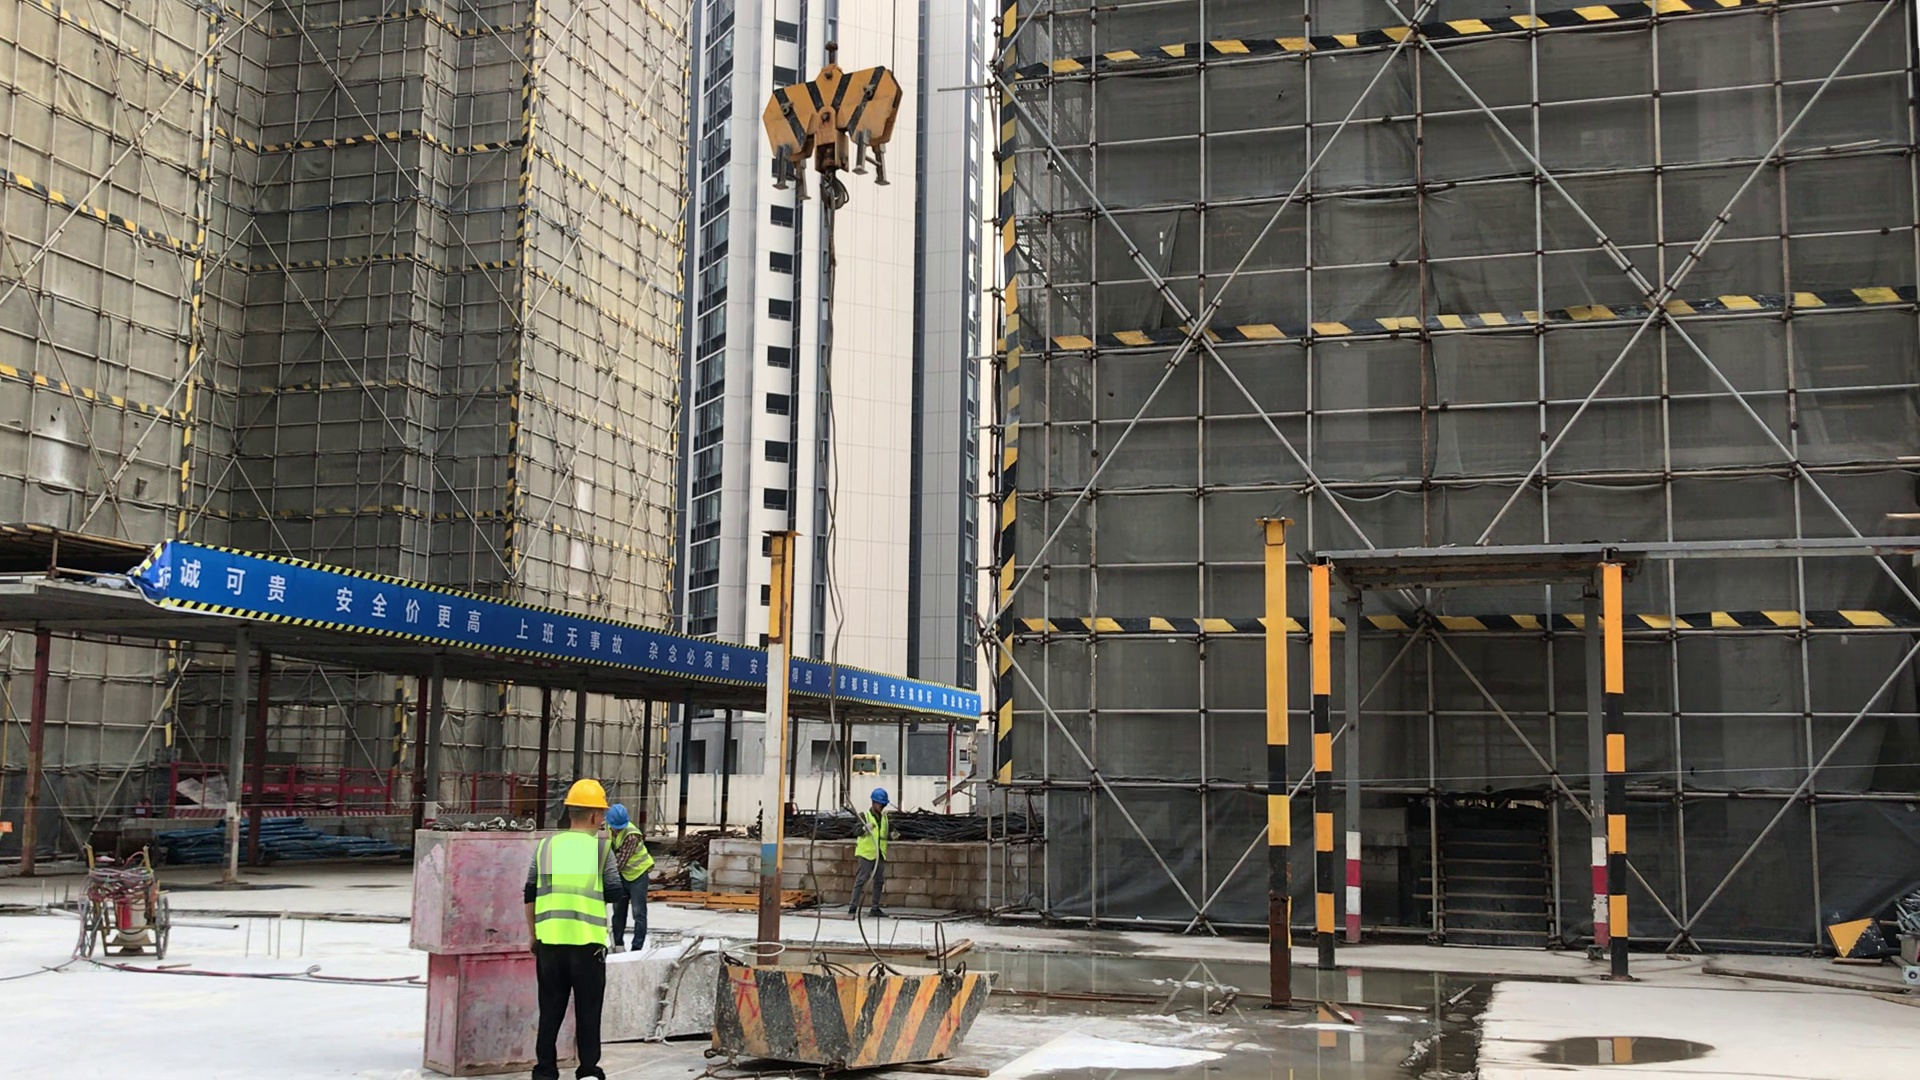fence: (171, 765, 540, 810)
handcart: (78, 839, 169, 970)
helmet: (563, 779, 608, 807), (606, 803, 628, 830), (871, 787, 889, 803)
hook: (761, 43, 902, 212)
hopper: (712, 960, 994, 1066), (593, 933, 723, 1035)
person: (522, 780, 624, 1080), (604, 807, 654, 951), (849, 789, 899, 921)
slogan: (154, 538, 981, 720)
vest: (532, 829, 605, 950), (608, 824, 655, 880), (858, 811, 890, 861)
